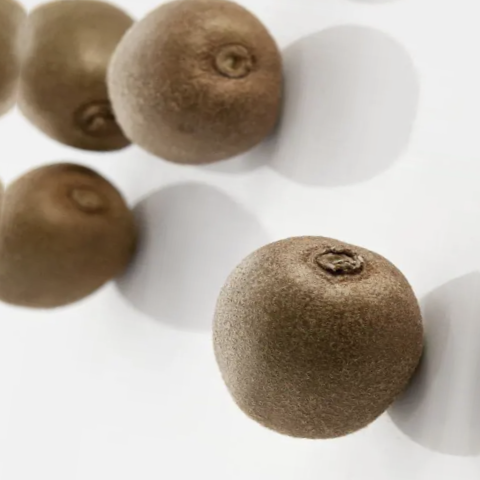kiwi: (181, 203, 450, 472), (92, 0, 311, 202)
